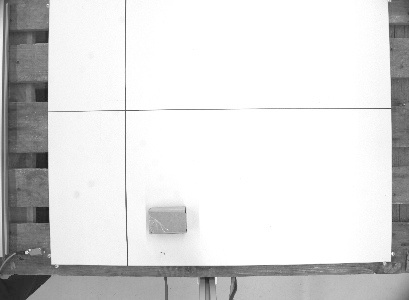b1: (145, 204, 189, 236)
